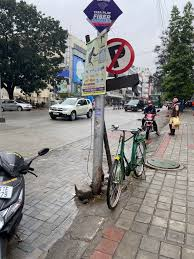No parking: (99, 34, 138, 87)
